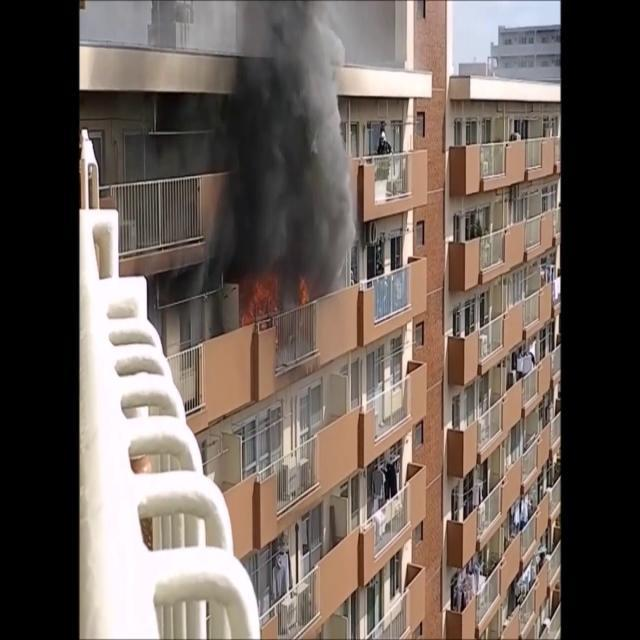Smoke: (190, 0, 360, 296)
